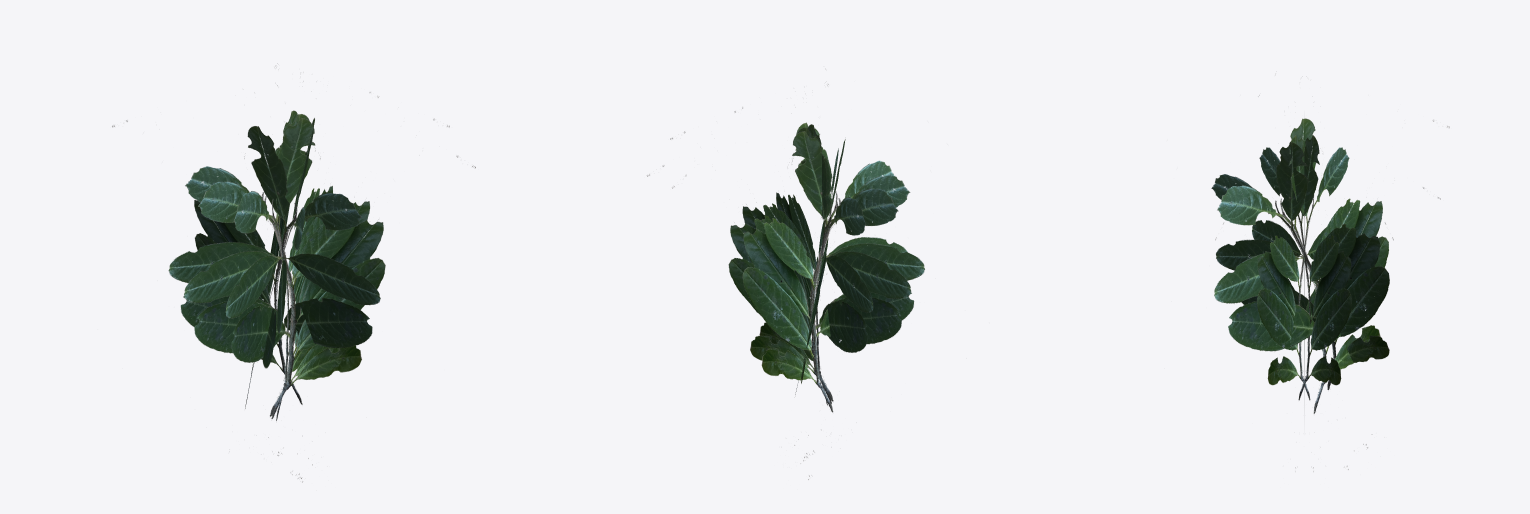
Rendered from fol1.glb.
3 views of the same model, side by side, from view 1: azimuth 30°, elevation 25°; view 2: azimuth 150°, elevation 25°; view 3: azimuth 270°, elevation 25° (orthographic). The views are drawn at different scales.
Parts seen in each view (by area): view 1: Plane.004; view 2: Plane.004; view 3: Plane.004.
Part boxes in pixels (bbox=[...]): Plane.004: bbox=[112, 65, 475, 482]; Plane.004: bbox=[647, 68, 924, 479]; Plane.004: bbox=[1211, 73, 1449, 471].
Bounding box in the file's own units: 2.79 × 2.79 × 2.38.
Materials: 1 (1 with a texture image).
